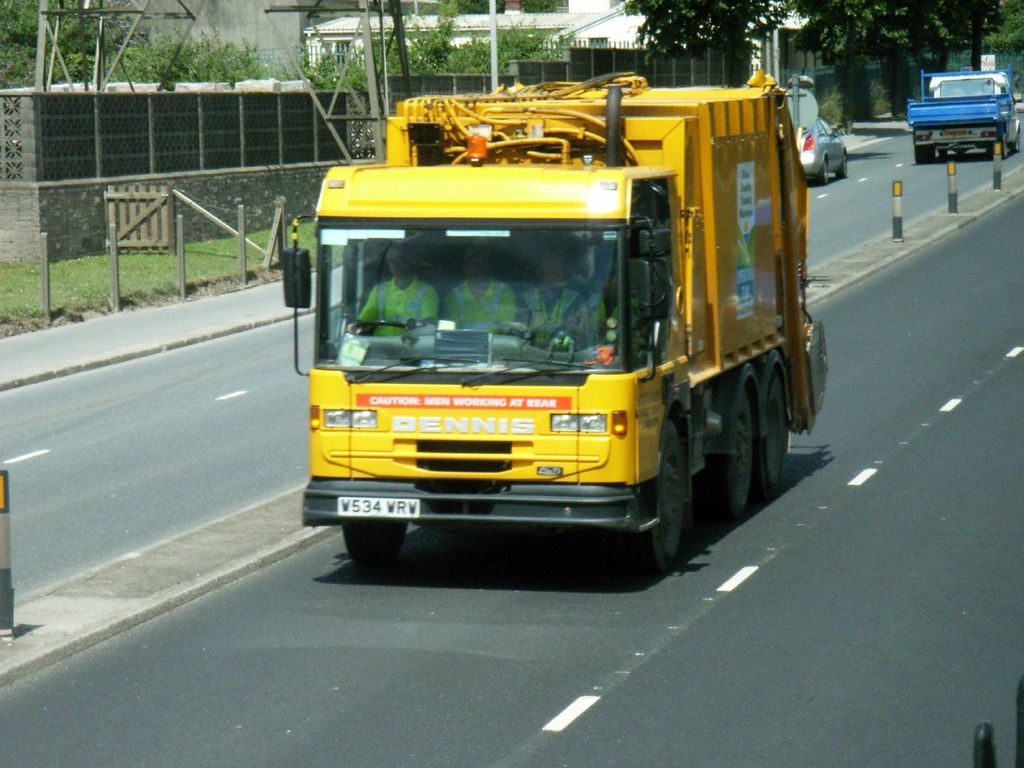Car: (799, 116, 847, 186)
